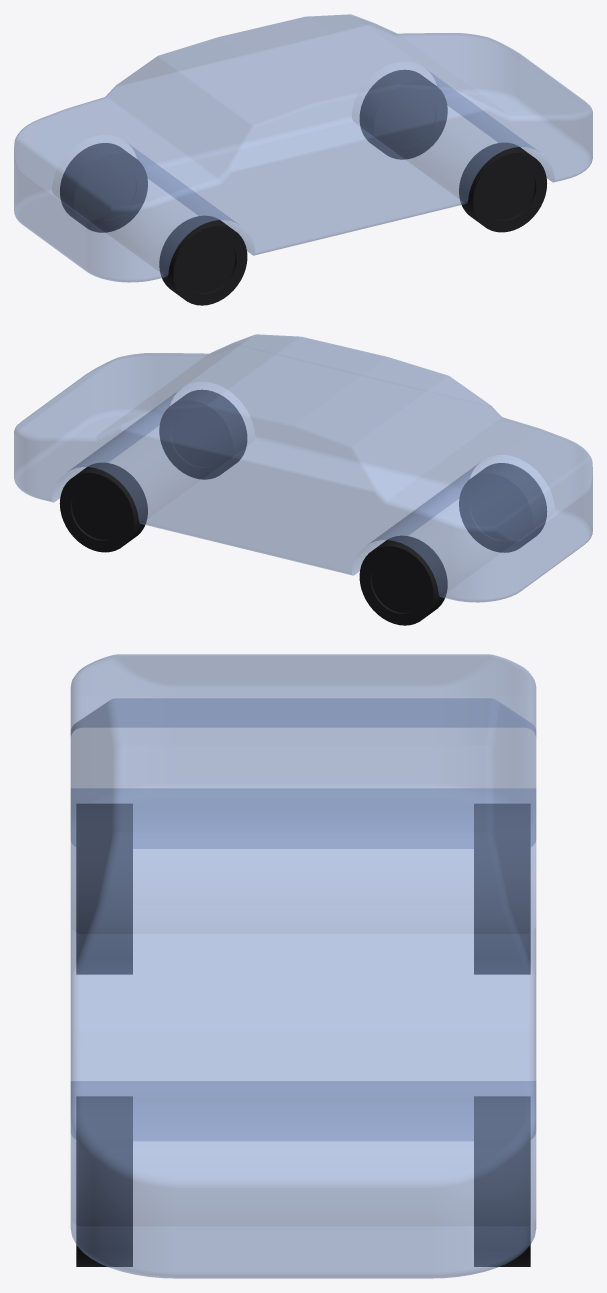
File: sedan.glb
The picture shows the model from 3 angles, top to bottom: view 1: azimuth 30°, elevation 25°; view 2: azimuth 150°, elevation 25°; view 3: azimuth 270°, elevation 25°; orthographic projection. The views are drawn at different scales.
Parts seen in each view (by area): view 1: body, wheel_rr, wheel_fr, wheel_rl, wheel_fl; view 2: body, wheel_rl, wheel_fl, wheel_rr, wheel_fr; view 3: body, wheel_fl, wheel_fr, wheel_rl, wheel_rr.
Part boxes in pixels (x1,y1,x2,y2): body: [14, 14, 592, 282]; wheel_rr: [159, 216, 247, 305]; wheel_fr: [459, 143, 547, 232]; wheel_rl: [60, 143, 147, 232]; wheel_fl: [360, 70, 447, 159]; body: [14, 334, 592, 602]; wheel_rl: [359, 536, 447, 625]; wheel_fl: [59, 463, 147, 552]; wheel_rr: [459, 463, 546, 552]; wheel_fr: [159, 390, 246, 479]; body: [70, 654, 536, 1278]; wheel_fl: [474, 1096, 530, 1266]; wheel_fr: [76, 1096, 132, 1266]; wheel_rl: [474, 804, 530, 974]; wheel_rr: [76, 804, 132, 974].
Size of the model in its own units: 4600 by 1449 by 1850.
